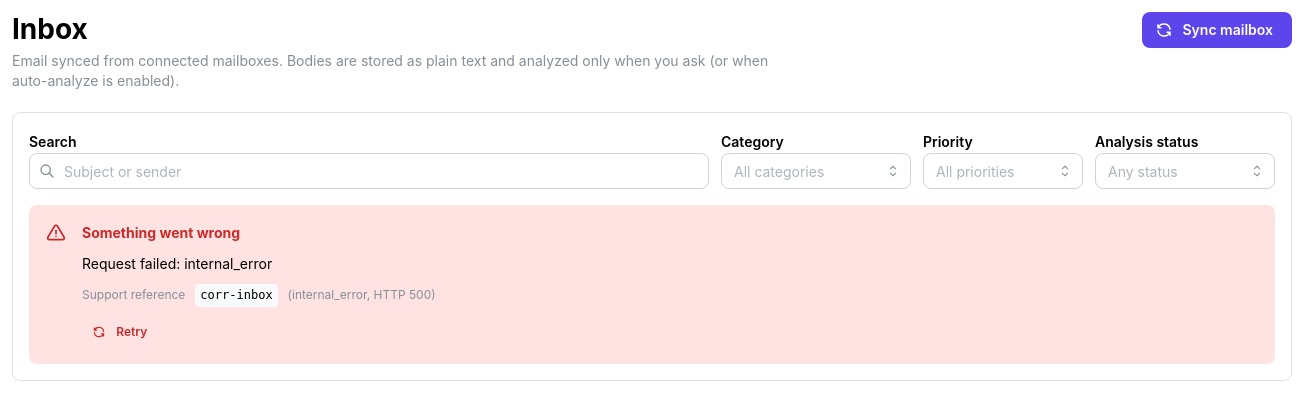
<InboxPage> states › shows the error with its support reference and retries
This screenshot has width=1304, height=398.
Check: the message shows "Something went wrong", box x1=82 y1=224 x2=240 y2=241
Check: the text "corr-inbox" is shown, box x1=195 y1=284 x2=278 y2=307
Click the button "Retry" at (122, 332), box x1=82 y1=317 x2=162 y2=347
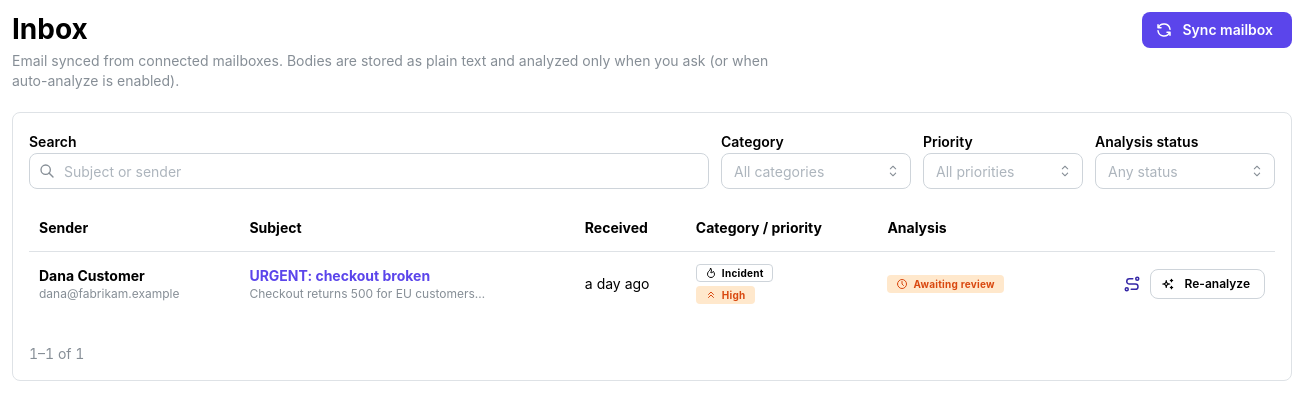
Check: the link "URGENT: checkout broken" is shown, box x1=249 y1=266 x2=430 y2=286
